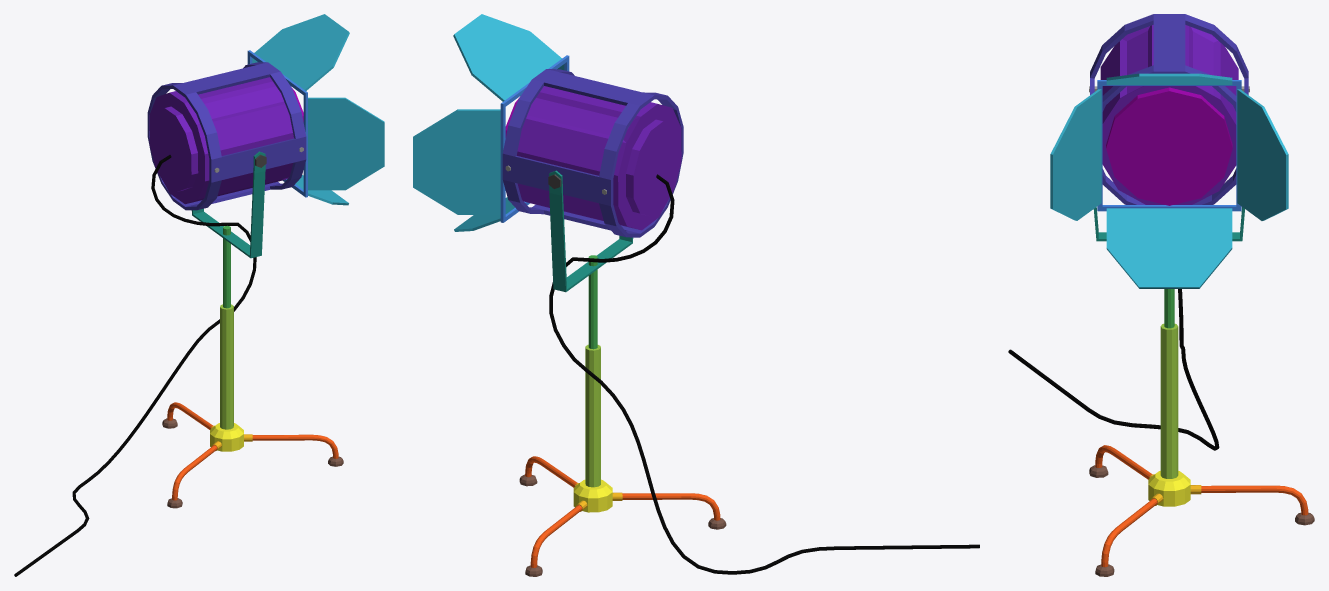
Rendered from lumiere.fbx.
3 views of the same model, side by side, from view 1: azimuth 30°, elevation 25°; view 2: azimuth 150°, elevation 25°; view 3: azimuth 270°, elevation 25° (orthographic). The views are drawn at different scales.
Visible parts, largest first — view 1: lampe, soutien, pale-4, pale-1, Cylinder, supportLampe, barreLarge, cadre, SupportPattes, barrePetite, patte-1, pale-3; view 2: lampe, soutien, pale-2, pale-1, Cylinder, supportLampe, barreLarge, cadre, SupportPattes, barrePetite, patte-3; view 3: verre, pale-3, lampe, soutien, pale-2, pale-4, barreLarge, Cylinder, cadre, pale-1, SupportPattes, patte-2 (+4 smaller).
Boxes of the visible parts, x1=… form: lampe: x1=149, y1=77, x2=293, y2=204; soutien: x1=147, y1=62, x2=306, y2=210; pale-4: x1=308, y1=97, x2=384, y2=190; pale-1: x1=254, y1=14, x2=349, y2=90; Cylinder: x1=14, y1=155, x2=256, y2=576; supportLampe: x1=191, y1=151, x2=265, y2=258; barreLarge: x1=220, y1=304, x2=233, y2=429; cadre: x1=247, y1=50, x2=307, y2=197; SupportPattes: x1=210, y1=423, x2=243, y2=451; barrePetite: x1=223, y1=225, x2=230, y2=308; patte-1: x1=252, y1=434, x2=338, y2=458; pale-3: x1=295, y1=175, x2=348, y2=205; lampe: x1=516, y1=86, x2=681, y2=230; soutien: x1=502, y1=69, x2=683, y2=237; pale-2: x1=413, y1=109, x2=500, y2=214; pale-1: x1=453, y1=14, x2=561, y2=101; Cylinder: x1=549, y1=174, x2=979, y2=574; supportLampe: x1=549, y1=170, x2=633, y2=292; barreLarge: x1=585, y1=344, x2=600, y2=487; cadre: x1=500, y1=55, x2=569, y2=222; SupportPattes: x1=573, y1=479, x2=612, y2=512; barrePetite: x1=588, y1=255, x2=597, y2=349; patte-3: x1=622, y1=493, x2=720, y2=520; verre: x1=1106, y1=87, x2=1232, y2=205; pale-3: x1=1106, y1=208, x2=1232, y2=288; lampe: x1=1100, y1=25, x2=1238, y2=204; soutien: x1=1090, y1=14, x2=1248, y2=204; pale-2: x1=1237, y1=89, x2=1288, y2=220; pale-4: x1=1050, y1=89, x2=1101, y2=220; barreLarge: x1=1160, y1=323, x2=1178, y2=478; Cylinder: x1=1008, y1=289, x2=1219, y2=450; cadre: x1=1097, y1=80, x2=1241, y2=211; pale-1: x1=1106, y1=73, x2=1232, y2=84; SupportPattes: x1=1148, y1=471, x2=1190, y2=506; patte-2: x1=1201, y1=485, x2=1308, y2=515.
Size of the model in its own units: 779 by 797 by 429.
